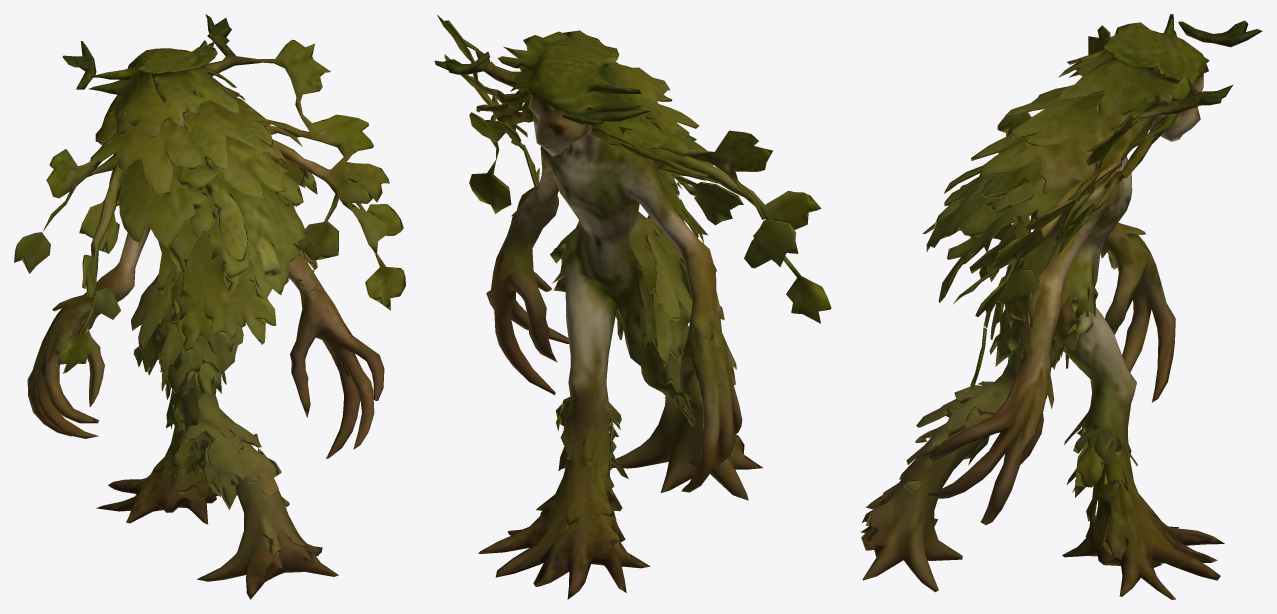
The model's file is dryad.glb.
3 views of the same model, side by side, from view 1: azimuth 30°, elevation 25°; view 2: azimuth 150°, elevation 25°; view 3: azimuth 270°, elevation 25° (orthographic). The views are drawn at different scales.
Visible parts, largest first — view 1: tripo_node_773ff70f-8939-461b-9bab-3f0c71d6b378; view 2: tripo_node_773ff70f-8939-461b-9bab-3f0c71d6b378; view 3: tripo_node_773ff70f-8939-461b-9bab-3f0c71d6b378.
Boxes of the visible parts, x1=… form: tripo_node_773ff70f-8939-461b-9bab-3f0c71d6b378: x1=14, y1=14, x2=405, y2=599; tripo_node_773ff70f-8939-461b-9bab-3f0c71d6b378: x1=434, y1=15, x2=831, y2=599; tripo_node_773ff70f-8939-461b-9bab-3f0c71d6b378: x1=860, y1=14, x2=1262, y2=599.
Bounding box in the file's own units: 1.42 × 1.8 × 1.25.
1 material, 1 textured.
